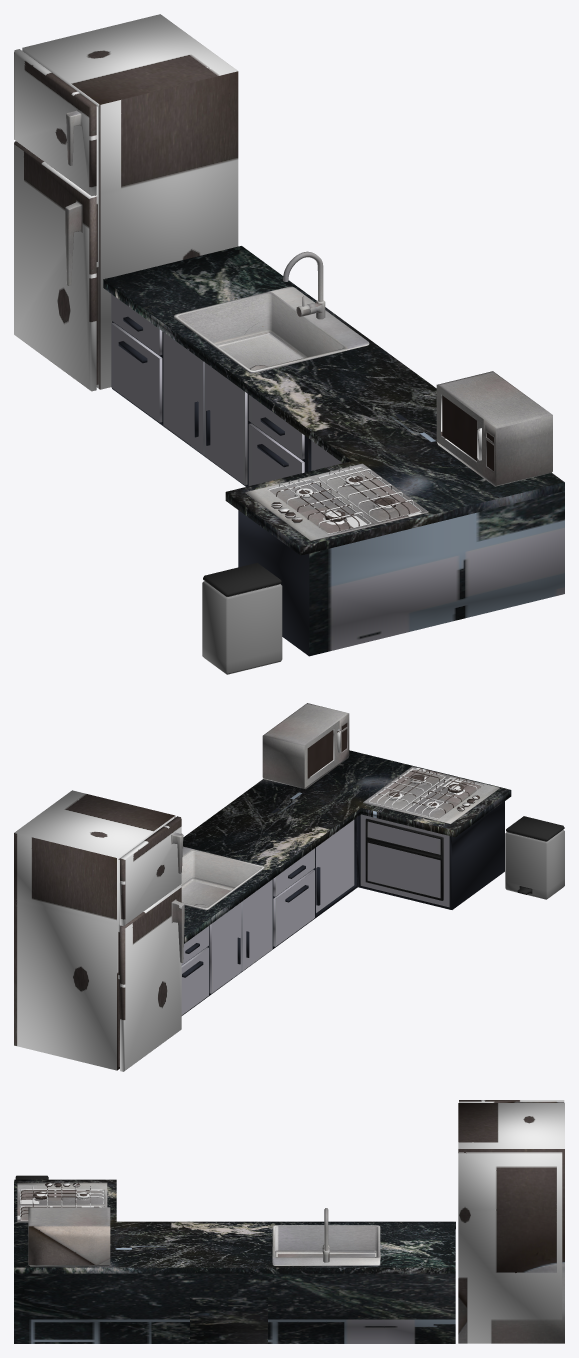
The model's file is Kitchen.fbx.
3 views of the same model, one above another, from view 1: azimuth 30°, elevation 25°; view 2: azimuth 150°, elevation 25°; view 3: azimuth 270°, elevation 25° (orthographic). The views are drawn at different scales.
Parts seen in each view (by area): view 1: Counter, Fridge, Microwave, Dishwasher, Trash_Can, Stove; view 2: Fridge, Counter, Microwave, Trash_Can, Stove, Dishwasher; view 3: Counter, Fridge, Microwave, Dishwasher, Stove, Reja03.001.
Part boxes in pixels (<box>): Counter: <box>103,246,564,656</box>; Fridge: <box>14,14,238,391</box>; Microwave: <box>436,371,552,486</box>; Dishwasher: <box>174,286,369,373</box>; Trash_Can: <box>202,562,282,674</box>; Stove: <box>245,463,428,541</box>; Fridge: <box>14,790,184,1071</box>; Counter: <box>181,750,511,1015</box>; Microwave: <box>262,703,349,789</box>; Trash_Can: <box>505,816,564,899</box>; Stove: <box>363,766,499,824</box>; Dishwasher: <box>180,846,264,910</box>; Counter: <box>14,1179,455,1343</box>; Fridge: <box>458,1100,564,1343</box>; Microwave: <box>28,1207,110,1266</box>; Dishwasher: <box>272,1225,380,1265</box>; Stove: <box>17,1182,107,1222</box>; Reja03.001: <box>20,1190,104,1200</box>.
Bounding box in the file's own units: 278 × 224 × 575.
